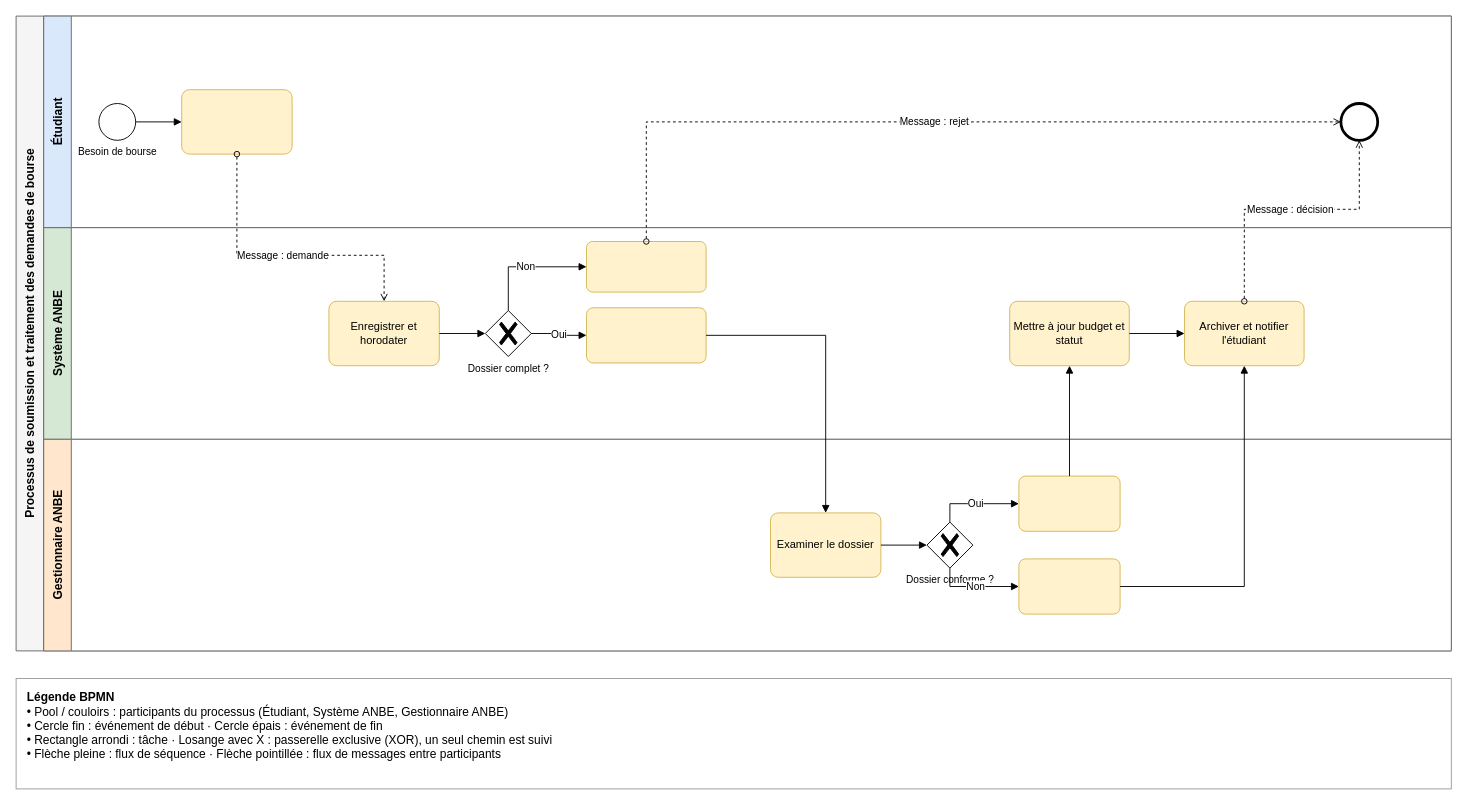
The diagram is 1467 pixels wide and 805 high, and some of its shapes have lost their labels. Here are the shapes that lost their labels. From the top down, the centre of each, then its label:
At pixel 236 121: "Remplir et soumettre la demande".
At pixel 1359 121: "Décision reçue".
At pixel 646 266: "Rejeter automatiquement".
At pixel 646 335: "Placer dans la file du gestionnaire".
At pixel 1069 503: "Valider".
At pixel 1069 586: "Rejeter avec motif".
